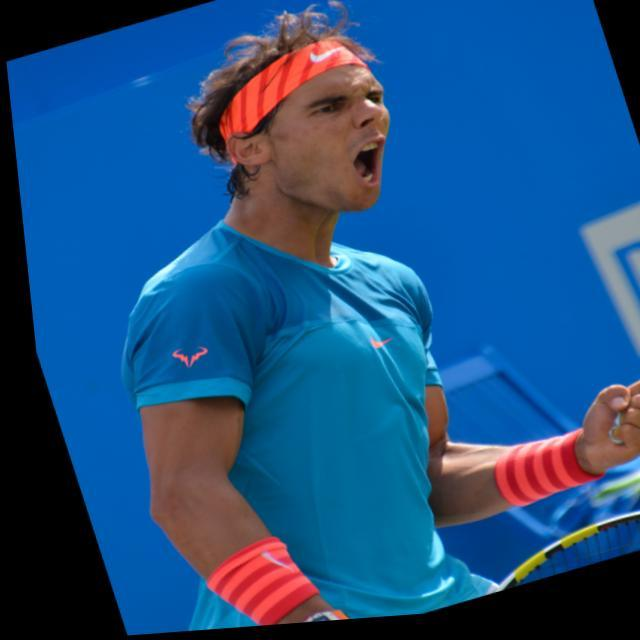Nonhelmet: (186, 0, 382, 204)
